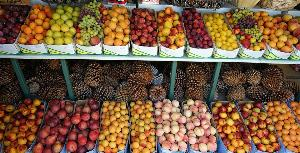apricot: (256, 10, 290, 64), (266, 102, 300, 152), (18, 4, 54, 47), (103, 5, 131, 55), (130, 99, 156, 152), (103, 101, 127, 153)
grape: (232, 8, 266, 48), (75, 1, 103, 49)
lemon: (45, 5, 81, 51)
peach: (0, 96, 42, 152), (212, 101, 252, 153), (155, 99, 187, 153), (243, 101, 275, 153), (188, 100, 216, 153), (156, 8, 186, 56), (130, 7, 158, 53), (0, 3, 26, 47)
pear: (66, 98, 100, 153), (40, 92, 68, 153)
plum: (182, 11, 212, 58)
